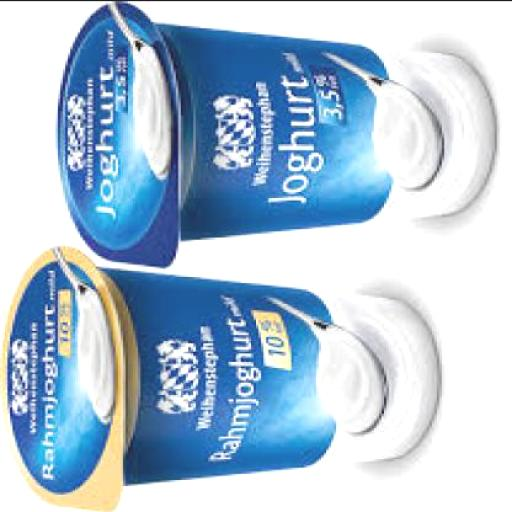plastic: (52, 4, 490, 270), (0, 248, 438, 510)
